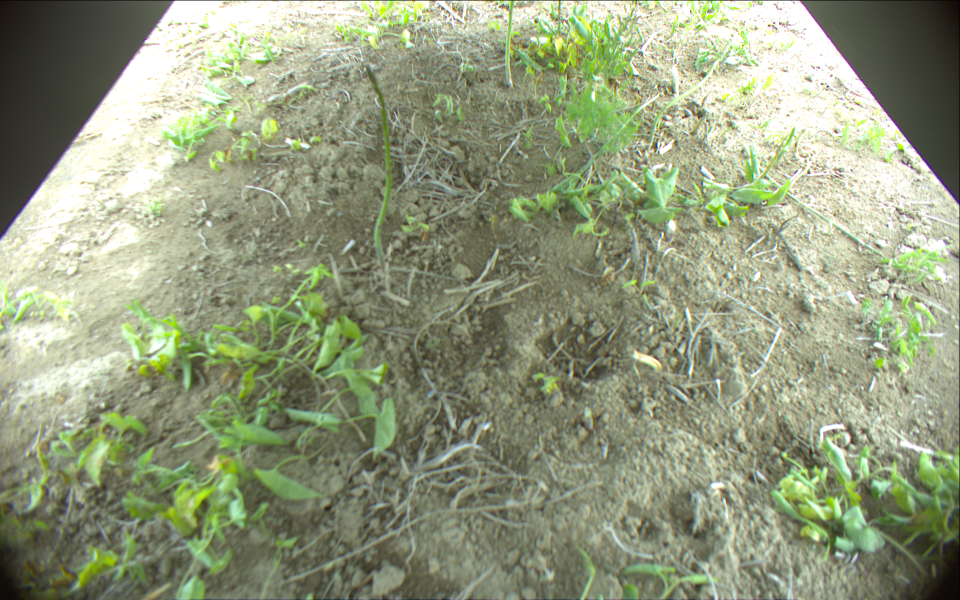aspa: (648, 58, 721, 146), (365, 63, 391, 272), (504, 1, 514, 87)
